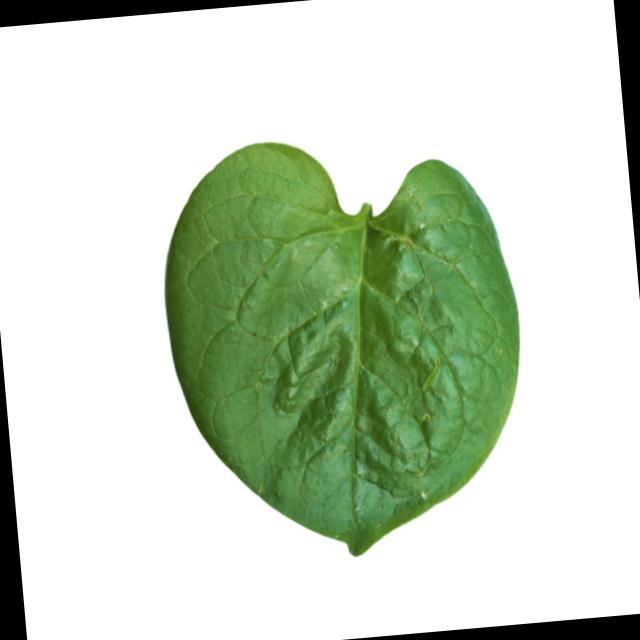Medicinal-Basale: (151, 120, 539, 572)
